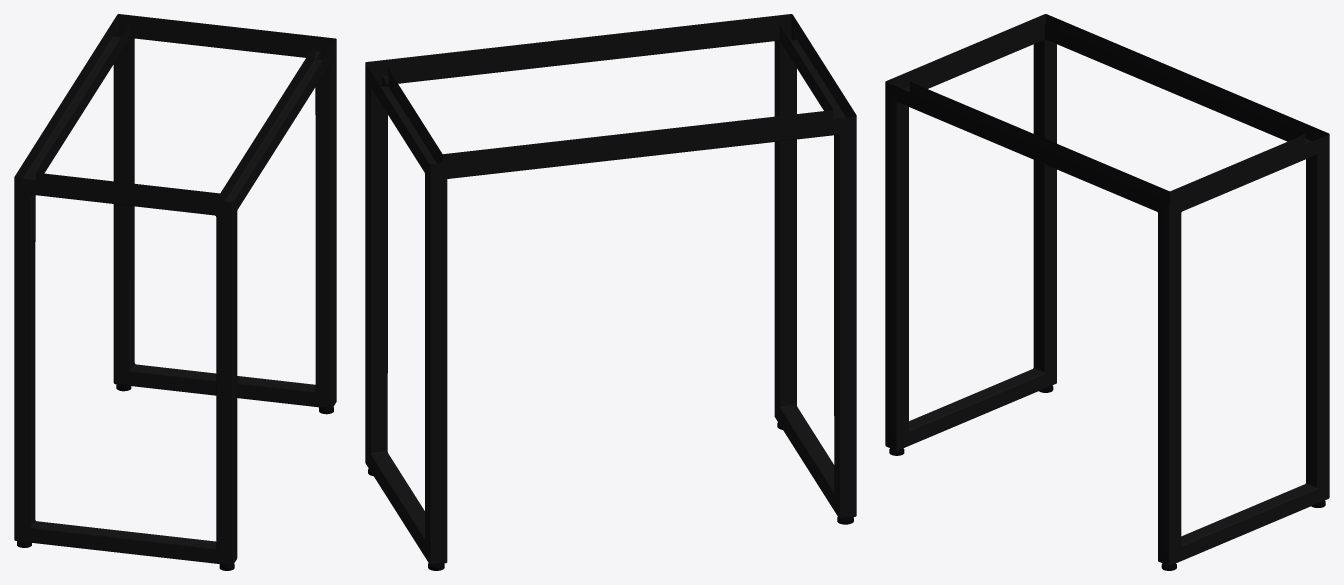
File: diningtable_0101_leg_rectagle.glb
3 renders of one model, left to right at view 1: azimuth 30°, elevation 25°; view 2: azimuth 150°, elevation 25°; view 3: azimuth 270°, elevation 25°, orthographic. The views are drawn at different scales.
Parts seen in each view (by area): view 1: diningtable_0101_leg_rectagle; view 2: diningtable_0101_leg_rectagle; view 3: diningtable_0101_leg_rectagle.
Part boxes in pixels (x1=…): diningtable_0101_leg_rectagle: x1=14, y1=14, x2=336, y2=570; diningtable_0101_leg_rectagle: x1=365, y1=14, x2=856, y2=570; diningtable_0101_leg_rectagle: x1=885, y1=14, x2=1329, y2=570.
Bounding box in the file's own units: 1.03 × 0.9468 × 1.03.
Materials: 1 (1 with a texture image).
